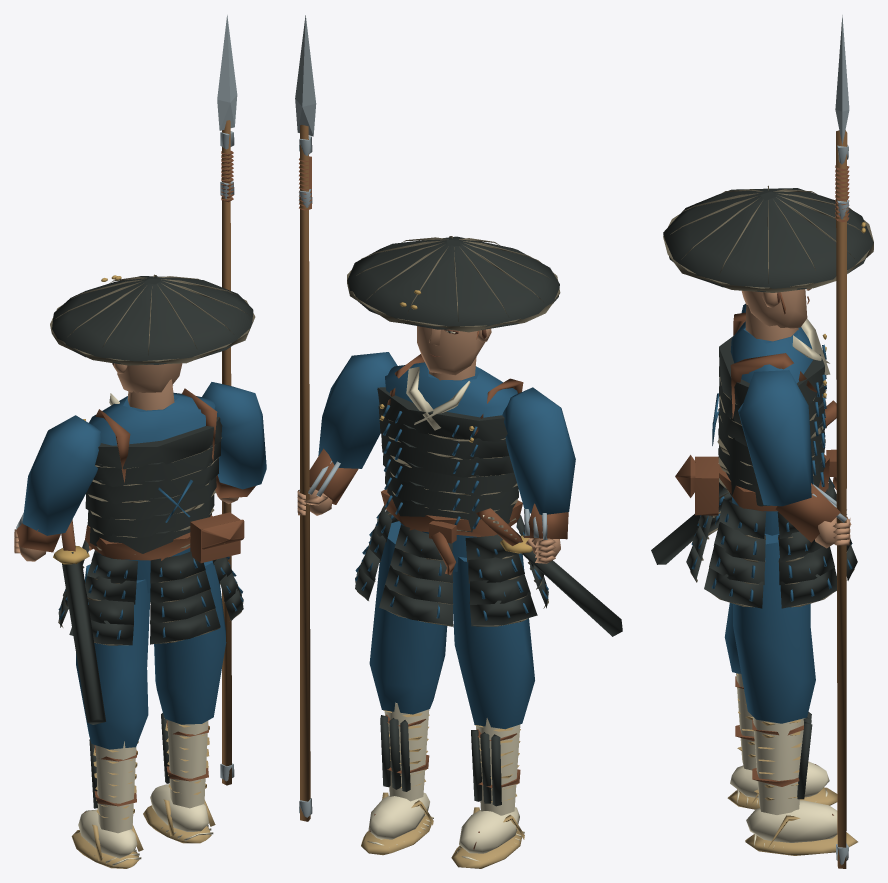
3 views of the same model, side by side, from view 1: azimuth 30°, elevation 25°; view 2: azimuth 150°, elevation 25°; view 3: azimuth 270°, elevation 25° (orthographic). The views are drawn at different scales.
Parts seen in each view (by area): view 1: LOD_P_LOD_P_Body_Black lacquer, LOD_P_LOD_P_ArmL_TeamCloth, LOD_P_LOD_P_LegL_TeamCloth, LOD_P_LOD_P_LegR_TeamCloth, LOD_P_LOD_P_Body_Oxide leather, LOD_P_LOD_P_Body_TeamCloth, LOD_P_LOD_P_ArmR_TeamCloth, LOD_P_LOD_P_LegL_Unbleached linen, LOD_P_LOD_P_LegR_Unbleached linen, LOD_P_LOD_P_Body_Worn lacquer edges, LOD_P_LOD_P_ArmR_Oiled oak, LOD_P_LOD_P_Body_Skin (+6 smaller); view 2: LOD_P_LOD_P_Body_Black lacquer, LOD_P_LOD_P_LegL_TeamCloth, LOD_P_LOD_P_LegR_TeamCloth, LOD_P_LOD_P_ArmL_TeamCloth, LOD_P_LOD_P_ArmR_Oiled oak, LOD_P_LOD_P_Body_TeamCloth, LOD_P_LOD_P_ArmR_TeamCloth, LOD_P_LOD_P_LegL_Unbleached linen, LOD_P_LOD_P_LegR_Unbleached linen, LOD_P_LOD_P_Body_Oxide leather, LOD_P_LOD_P_Body_Worn lacquer edges, LOD_P_LOD_P_Body_Skin (+10 smaller); view 3: LOD_P_LOD_P_Body_Black lacquer, LOD_P_LOD_P_LegR_TeamCloth, LOD_P_LOD_P_ArmR_TeamCloth, LOD_P_LOD_P_ArmR_Oiled oak, LOD_P_LOD_P_LegR_Unbleached linen, LOD_P_LOD_P_Body_Oxide leather, LOD_P_LOD_P_Body_TeamCloth, LOD_P_LOD_P_Body_Worn lacquer edges, LOD_P_LOD_P_Body_Skin, LOD_P_LOD_P_LegL_Unbleached linen, LOD_P_LOD_P_ArmR_Oxide leather, LOD_P_LOD_P_LegR_Woven straw (+7 smaller).
Boxes of the visible parts, x1,y1,x2,y2 form: LOD_P_LOD_P_Body_Black lacquer: (52,276,253,724); LOD_P_LOD_P_ArmL_TeamCloth: (22,415,101,535); LOD_P_LOD_P_LegL_TeamCloth: (76,564,150,749); LOD_P_LOD_P_LegR_TeamCloth: (154,560,226,724); LOD_P_LOD_P_Body_Oxide leather: (61,388,244,563); LOD_P_LOD_P_Body_TeamCloth: (58,392,243,639); LOD_P_LOD_P_ArmR_TeamCloth: (202,382,266,489); LOD_P_LOD_P_LegL_Unbleached linen: (77,741,141,865); LOD_P_LOD_P_LegR_Unbleached linen: (147,720,213,840); LOD_P_LOD_P_Body_Worn lacquer edges: (50,274,255,645); LOD_P_LOD_P_ArmR_Oiled oak: (222,120,231,785); LOD_P_LOD_P_Body_Skin: (113,363,182,410); LOD_P_LOD_P_Body_Black lacquer: (347,236,622,636); LOD_P_LOD_P_LegL_TeamCloth: (453,553,534,729); LOD_P_LOD_P_LegR_TeamCloth: (369,521,447,714); LOD_P_LOD_P_ArmL_TeamCloth: (502,387,575,514); LOD_P_LOD_P_ArmR_Oiled oak: (300,125,310,821); LOD_P_LOD_P_Body_TeamCloth: (355,362,548,620); LOD_P_LOD_P_ArmR_TeamCloth: (318,352,397,468); LOD_P_LOD_P_LegL_Unbleached linen: (457,718,524,861); LOD_P_LOD_P_LegR_Unbleached linen: (367,702,433,847); LOD_P_LOD_P_Body_Oxide leather: (381,330,523,575); LOD_P_LOD_P_Body_Worn lacquer edges: (347,236,560,626); LOD_P_LOD_P_Body_Skin: (417,326,491,380); LOD_P_LOD_P_Body_Black lacquer: (651,188,873,608); LOD_P_LOD_P_LegR_TeamCloth: (733,534,815,723); LOD_P_LOD_P_ArmR_TeamCloth: (738,370,813,506); LOD_P_LOD_P_ArmR_Oiled oak: (836,130,847,868); LOD_P_LOD_P_LegR_Unbleached linen: (746,717,837,848); LOD_P_LOD_P_Body_Oxide leather: (675,292,836,515); LOD_P_LOD_P_Body_TeamCloth: (691,321,852,601); LOD_P_LOD_P_Body_Worn lacquer edges: (663,185,873,607); LOD_P_LOD_P_Body_Skin: (741,288,811,341); LOD_P_LOD_P_LegL_Unbleached linen: (730,673,829,805); LOD_P_LOD_P_ArmR_Oxide leather: (775,165,849,542); LOD_P_LOD_P_LegR_Woven straw: (745,717,857,855).
Size of the model in its own units: 0.7878 by 2.46 by 0.5697.
